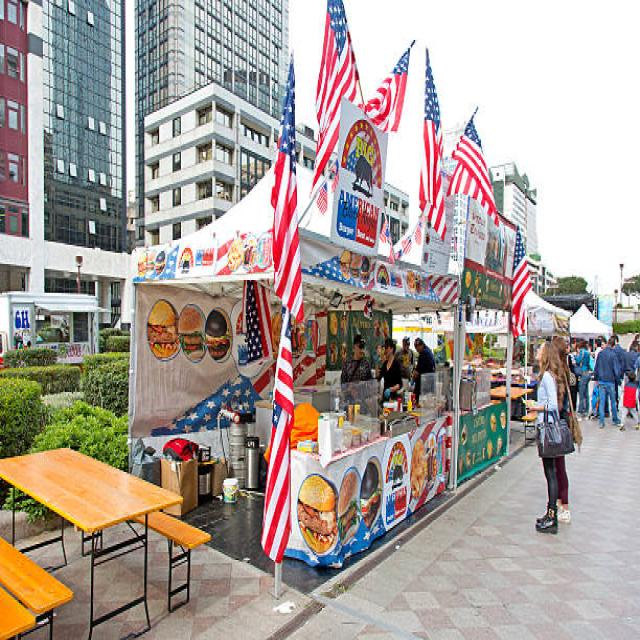Emperan: (106, 0, 456, 603)
